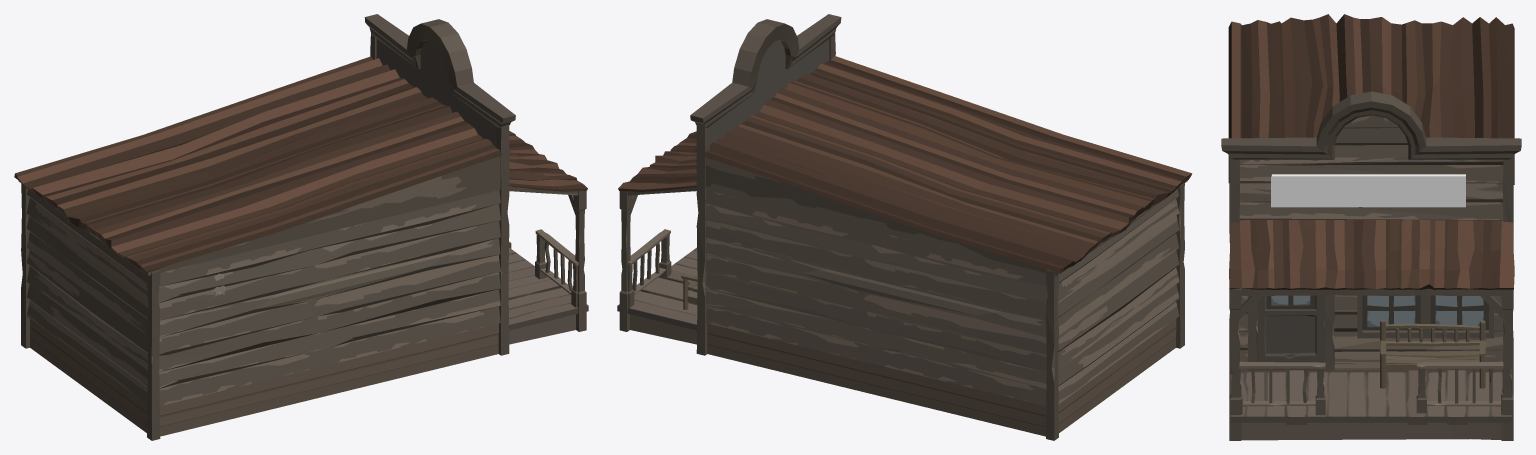
File: Gun_shop.glb
3 views of the same model, side by side, from view 1: azimuth 30°, elevation 25°; view 2: azimuth 150°, elevation 25°; view 3: azimuth 270°, elevation 25° (orthographic). The views are drawn at different scales.
Visible parts, largest first — view 1: Gun_shop, SM_Bld_Single_Roof_02, SM_Bld_Single_Facade_01, SM_Bld_Single_Deck_02, SM_Bld_Single_DeckCover_01; view 2: Gun_shop, SM_Bld_Single_Roof_02, SM_Bld_Single_Facade_01, SM_Bld_Single_Deck_02, SM_Bld_Single_DeckCover_01; view 3: SM_Bld_Single_Roof_02, SM_Bld_Single_DeckCover_01, SM_Bld_Single_Facade_01, SM_Bld_Single_Deck_02, SM_Bld_Single_Front_02, SM_Bld_Sign_05, Door, SM_Prop_Bench_01__4_, Gun_shop, SM_Building_Single_Front_Window_02, SM_Building_Single_FrontDoor_Window_02.
Part boxes in pixels (x1=…): Gun_shop: x1=21, y1=51, x2=509, y2=440; SM_Bld_Single_Roof_02: x1=14, y1=56, x2=502, y2=275; SM_Bld_Single_Facade_01: x1=364, y1=14, x2=515, y2=147; SM_Bld_Single_Deck_02: x1=508, y1=229, x2=588, y2=344; SM_Bld_Single_DeckCover_01: x1=509, y1=131, x2=587, y2=331; Gun_shop: x1=696, y1=52, x2=1184, y2=440; SM_Bld_Single_Roof_02: x1=703, y1=56, x2=1192, y2=275; SM_Bld_Single_Facade_01: x1=690, y1=14, x2=841, y2=146; SM_Bld_Single_Deck_02: x1=617, y1=229, x2=697, y2=344; SM_Bld_Single_DeckCover_01: x1=618, y1=131, x2=696, y2=331; SM_Bld_Single_Roof_02: x1=1228, y1=14, x2=1514, y2=184; SM_Bld_Single_DeckCover_01: x1=1229, y1=220, x2=1514, y2=440; SM_Bld_Single_Facade_01: x1=1221, y1=91, x2=1521, y2=220; SM_Bld_Single_Deck_02: x1=1230, y1=361, x2=1512, y2=440; SM_Bld_Single_Front_02: x1=1239, y1=295, x2=1503, y2=370; SM_Bld_Sign_05: x1=1271, y1=174, x2=1465, y2=207; Door: x1=1258, y1=295, x2=1324, y2=362; SM_Prop_Bench_01__4_: x1=1380, y1=320, x2=1485, y2=388; Gun_shop: x1=1229, y1=178, x2=1513, y2=395; SM_Building_Single_Front_Window_02: x1=1367, y1=295, x2=1483, y2=326; SM_Building_Single_FrontDoor_Window_02: x1=1271, y1=295, x2=1310, y2=304.
Size of the model in its own units: 10.44 by 6.18 by 5.49.
18 materials, 3 textured.
